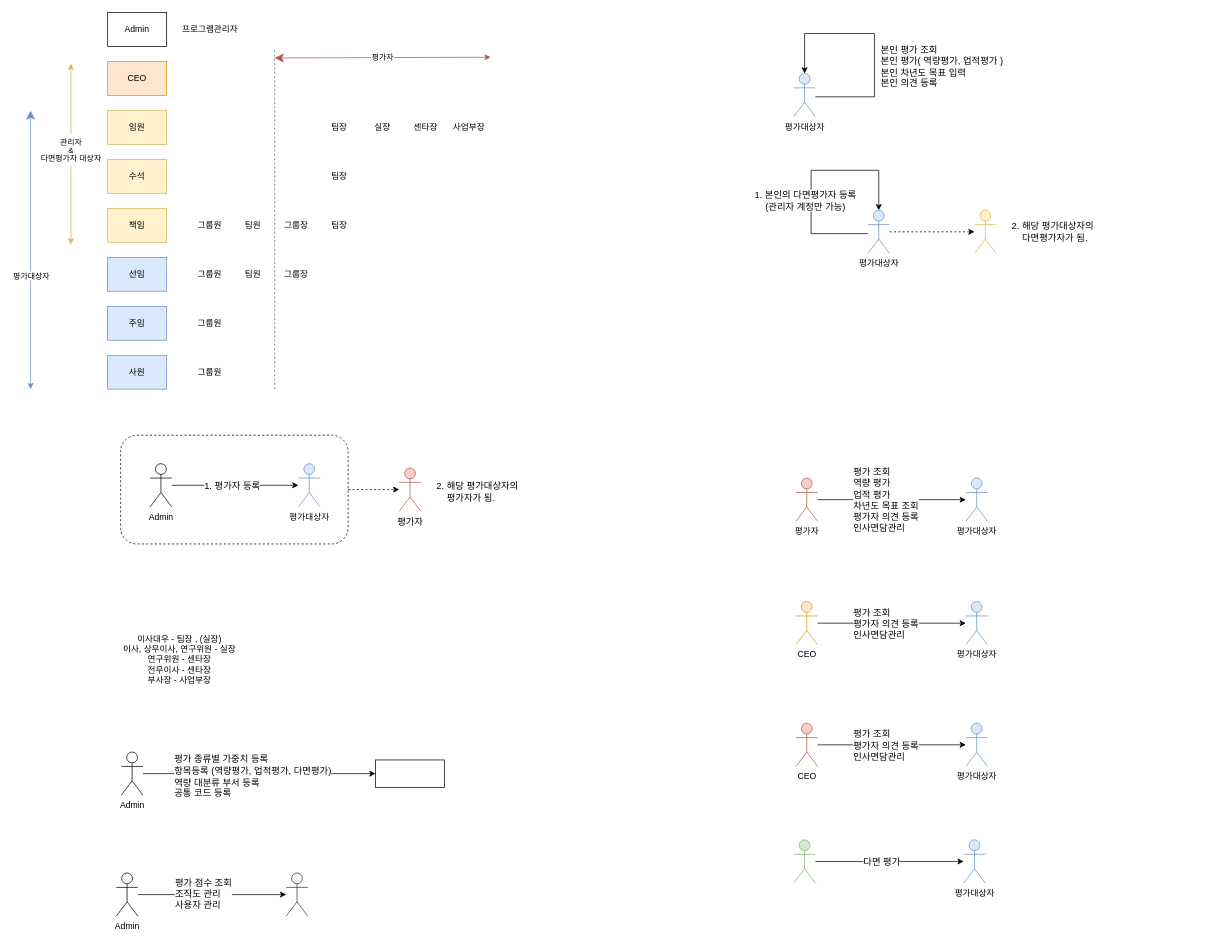
Image size: 1218x944. Some labels were removed from this diagram. The centre of each missing label's shape, as x and y in pixels:
계정: the point at 296,894
관리자: the point at 985,231
다면평가자: the point at 804,861
프로그램: the point at 410,773
